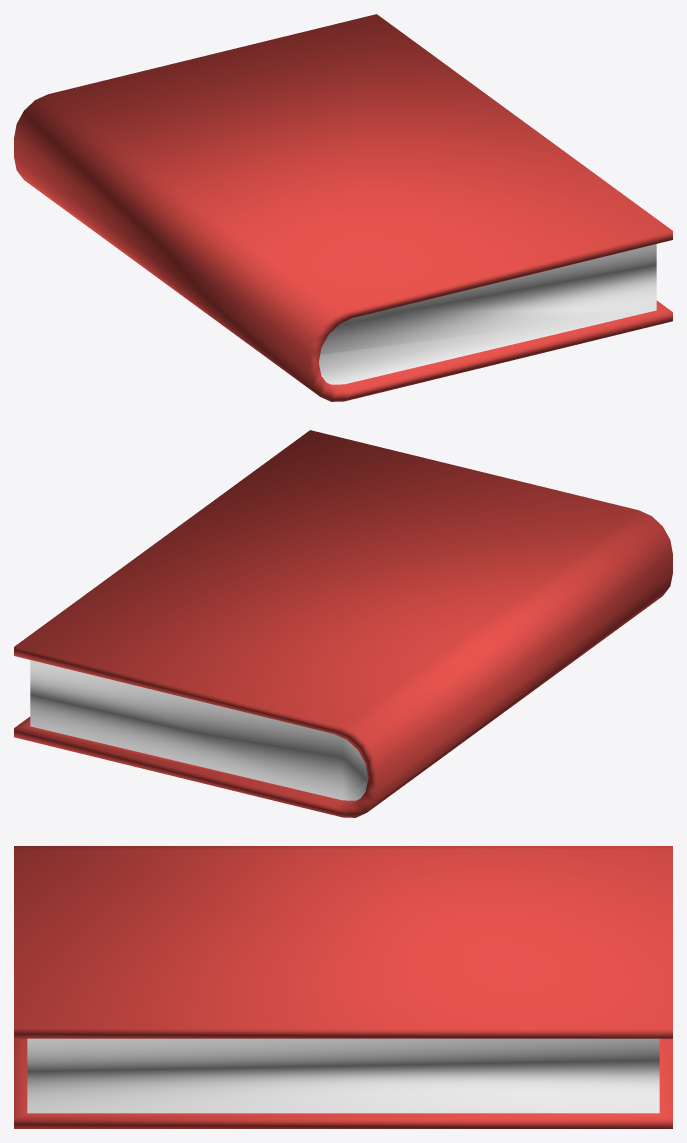
The model's file is ksiazkaczerwona.fbx.
The picture shows the model from 3 angles, top to bottom: view 1: azimuth 30°, elevation 25°; view 2: azimuth 150°, elevation 25°; view 3: azimuth 270°, elevation 25°; orthographic projection. The views are drawn at different scales.
Parts seen in each view (by area): view 1: Cube.001; view 2: Cube.001; view 3: Cube.001.
Part boxes in pixels (x1,y1,x2,y2): Cube.001: (14,14,672,401); Cube.001: (14,430,672,817); Cube.001: (14,846,672,1128).
Size of the model in its own units: 420 by 100 by 594.
